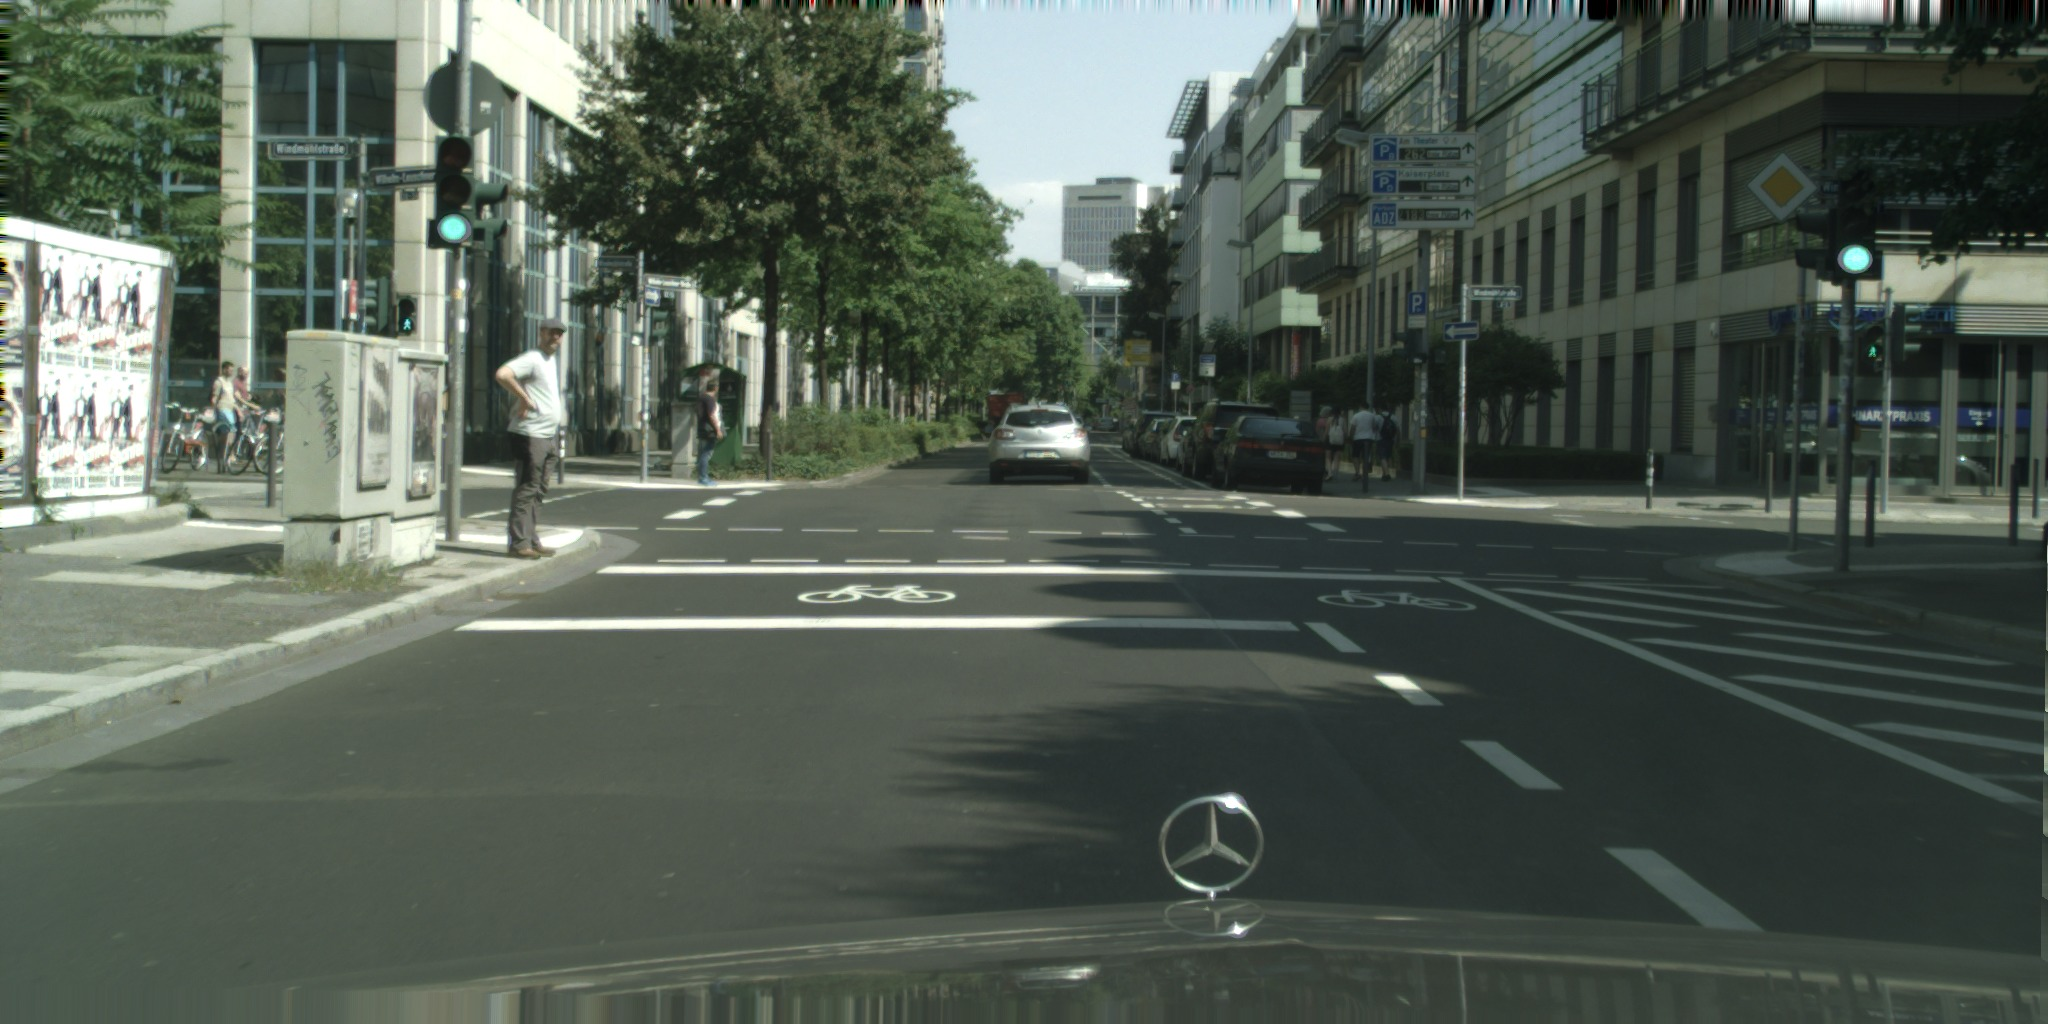bicycle: (160, 402, 217, 474)
car: (1212, 415, 1325, 496), (987, 401, 1090, 485), (1181, 399, 1280, 480), (1160, 415, 1204, 466), (1132, 412, 1178, 458), (1174, 425, 1214, 471), (1138, 418, 1178, 462), (1122, 427, 1138, 454), (1096, 417, 1114, 431)
person: (496, 318, 566, 560), (696, 378, 724, 485), (208, 361, 243, 436), (1320, 404, 1348, 479), (1350, 401, 1376, 479), (1375, 402, 1400, 480), (230, 366, 260, 426), (1316, 405, 1334, 449)
truck: (985, 392, 1025, 435)
